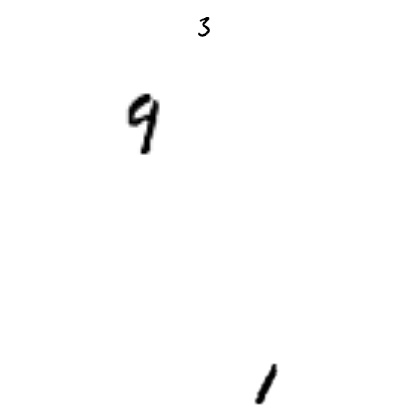3: (165, 53, 193, 81), (358, 239, 372, 253)
Bag: (11, 328, 25, 342)
